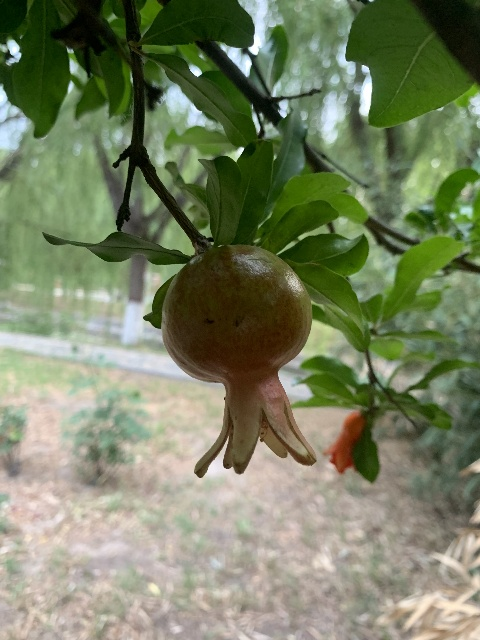early-fruit: (161, 244, 326, 478)
flower: (323, 411, 366, 474)
